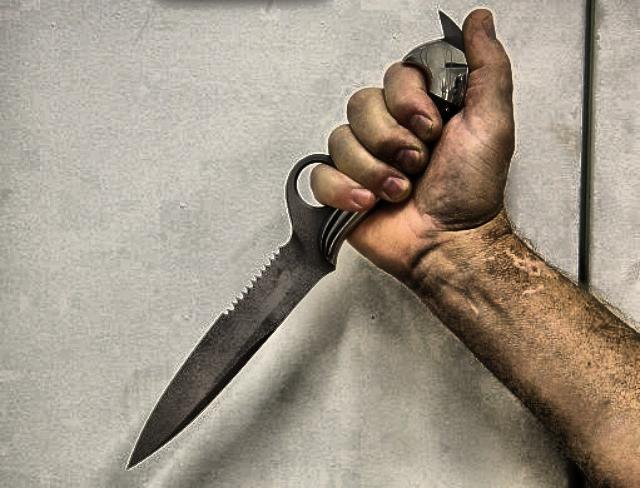knife: (117, 112, 437, 474)
